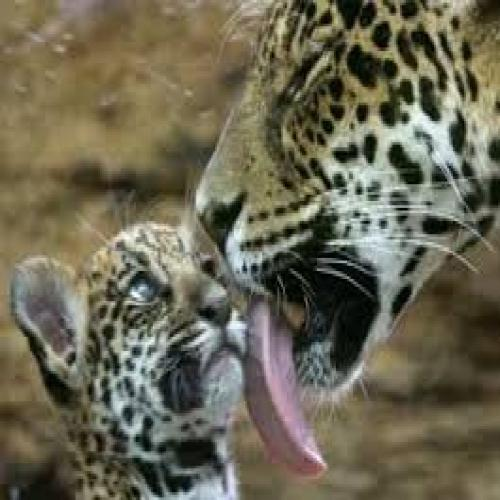jaguar_not-endangered: (192, 0, 500, 399), (14, 220, 254, 500)
